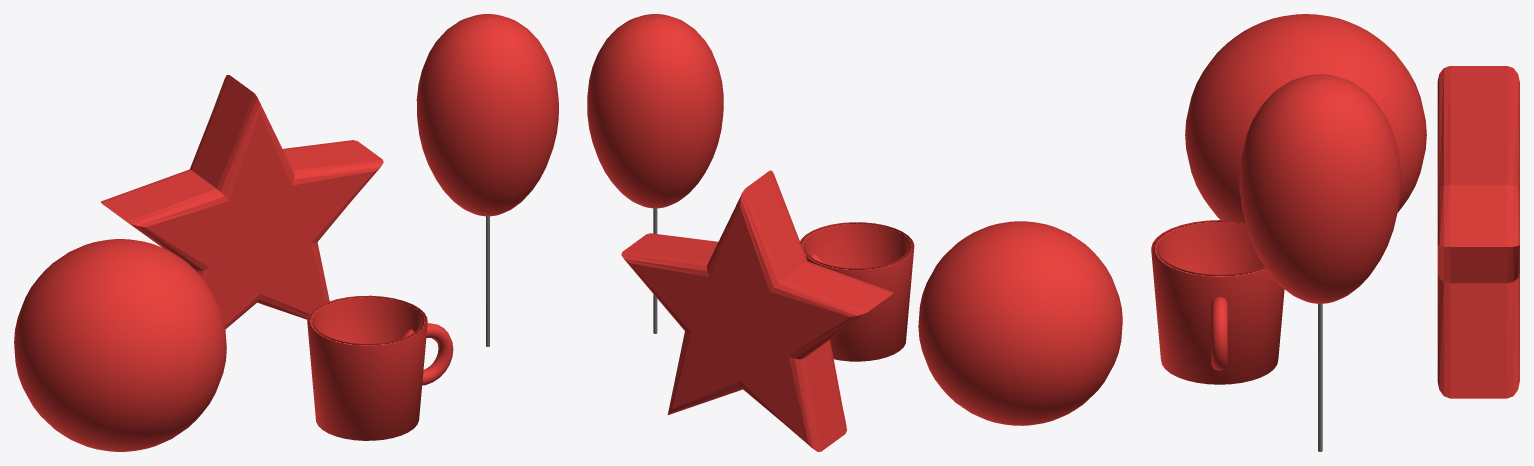
The model's file is red.glb.
The picture shows the model from 3 angles, left to right: view 1: azimuth 30°, elevation 25°; view 2: azimuth 150°, elevation 25°; view 3: azimuth 270°, elevation 25°; orthographic projection. The views are drawn at different scales.
Visible parts, largest first — view 1: ball, star, balloon, cup; view 2: star, ball, balloon, cup; view 3: balloon, star, ball, cup.
Boxes of the visible parts, <box> form: ball: <box>14,239,226,451</box>; star: <box>101,75,383,329</box>; balloon: <box>416,14,558,346</box>; cup: <box>307,295,453,440</box>; star: <box>621,170,893,451</box>; ball: <box>918,221,1122,425</box>; balloon: <box>587,14,723,333</box>; cup: <box>800,222,914,361</box>; balloon: <box>1239,74,1400,451</box>; star: <box>1437,66,1519,398</box>; ball: <box>1185,14,1426,221</box>; cup: <box>1151,220,1284,384</box>.
Bounding box in the file's own units: 2.4 × 1.42 × 1.28.
